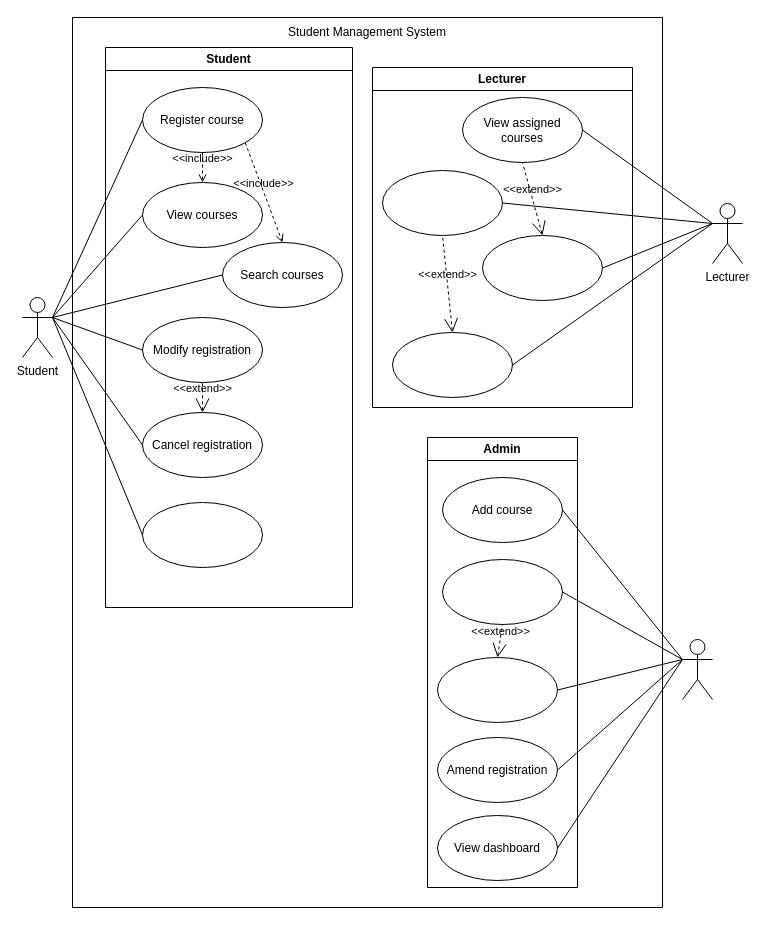
Image size: 767x925. Some labels were removed from this diagram. The shapes that lost their labels are listed below. From the top down, each one's centre as x and y in pixels, then its label:
pixel 442 203: View student list
pixel 542 267: View course details
pixel 452 365: View student details
pixel 202 535: Edit profile
pixel 502 591: Modify course
pixel 497 689: Delete course
pixel 697 669: IT Staff
